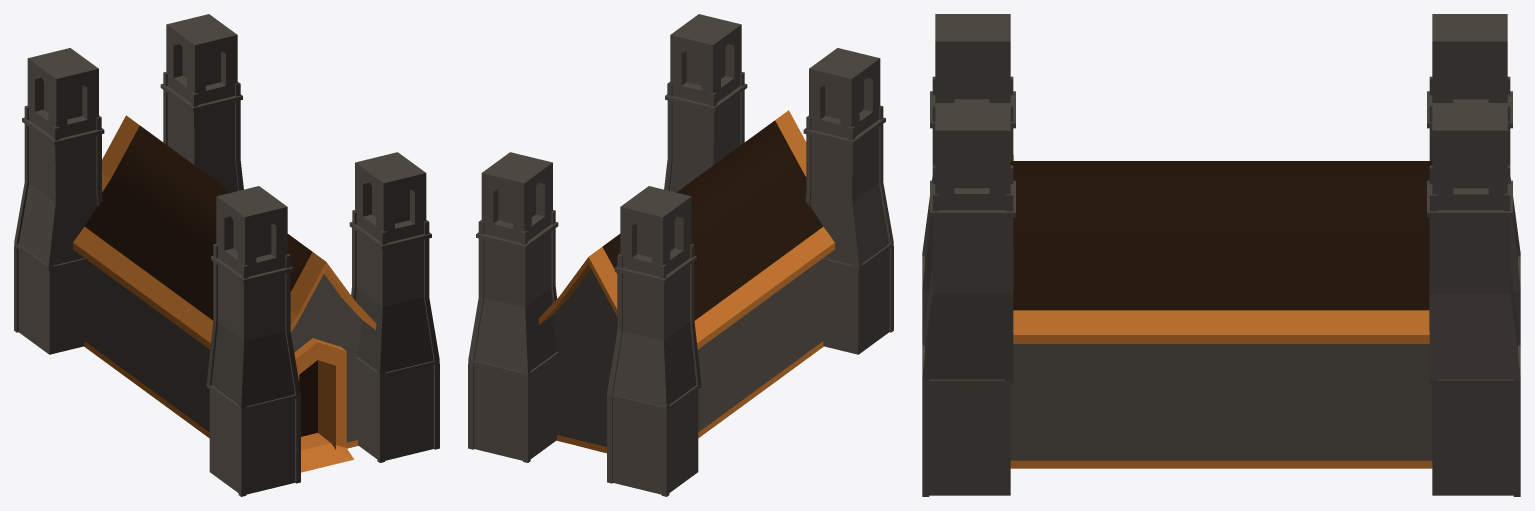
The model's file is CATHEDRAL.fbx.
The picture shows the model from 3 angles, left to right: view 1: azimuth 30°, elevation 25°; view 2: azimuth 150°, elevation 25°; view 3: azimuth 270°, elevation 25°; orthographic projection. The views are drawn at different scales.
Visible parts, largest first — view 1: HOUSE; view 2: HOUSE; view 3: HOUSE.
Boxes of the visible parts, x1=… form: HOUSE: x1=14, y1=14, x2=439, y2=496; HOUSE: x1=468, y1=14, x2=893, y2=496; HOUSE: x1=922, y1=14, x2=1520, y2=496.
Size of the model in its own units: 30.4 by 40.2 by 60.17.
